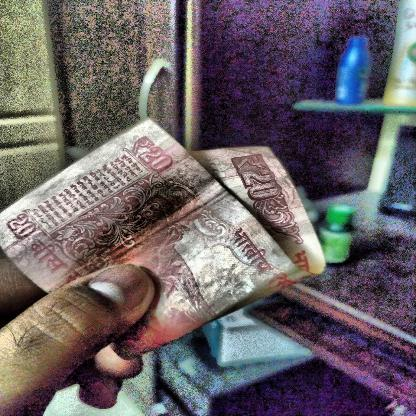Rs20: (228, 152, 287, 206), (123, 133, 183, 179), (2, 209, 45, 245)
